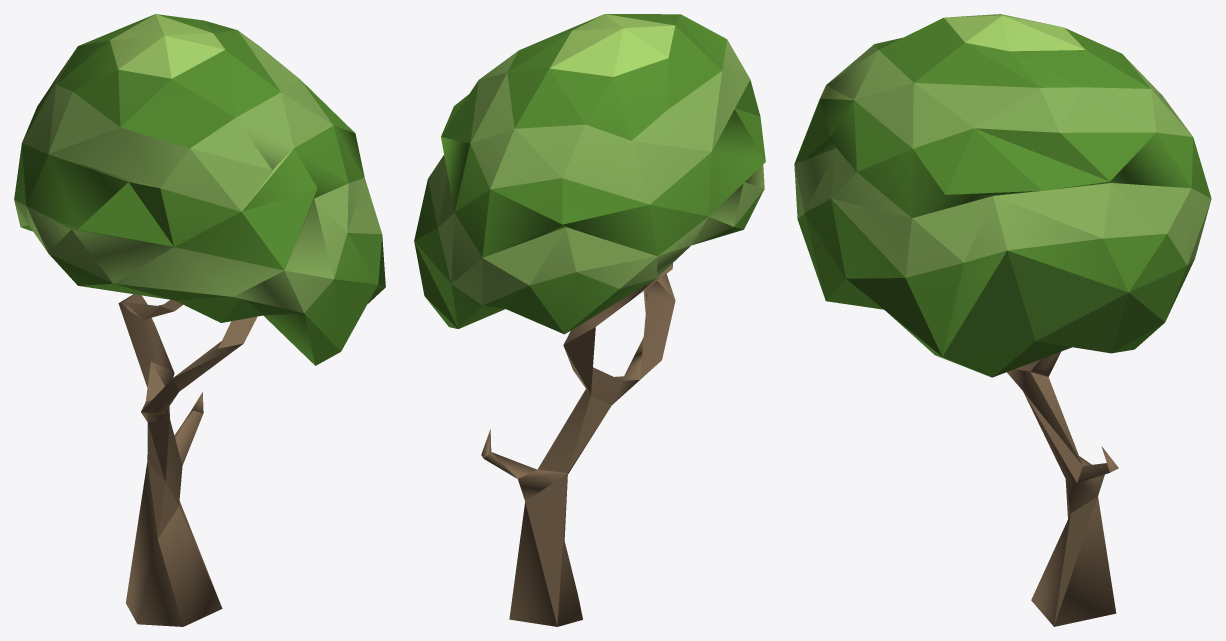
The model's file is big_huge_tree.fbx.
3 renders of one model, left to right at view 1: azimuth 30°, elevation 25°; view 2: azimuth 150°, elevation 25°; view 3: azimuth 270°, elevation 25°, orthographic. The views are drawn at different scales.
Parts seen in each view (by area): view 1: Tree_winding_01; view 2: Tree_winding_01; view 3: Tree_winding_01.
Boxes of the visible parts, x1=… form: Tree_winding_01: x1=14, y1=14, x2=385, y2=626; Tree_winding_01: x1=414, y1=14, x2=765, y2=626; Tree_winding_01: x1=794, y1=14, x2=1211, y2=626.
Size of the model in its own units: 262 by 482 by 317.
